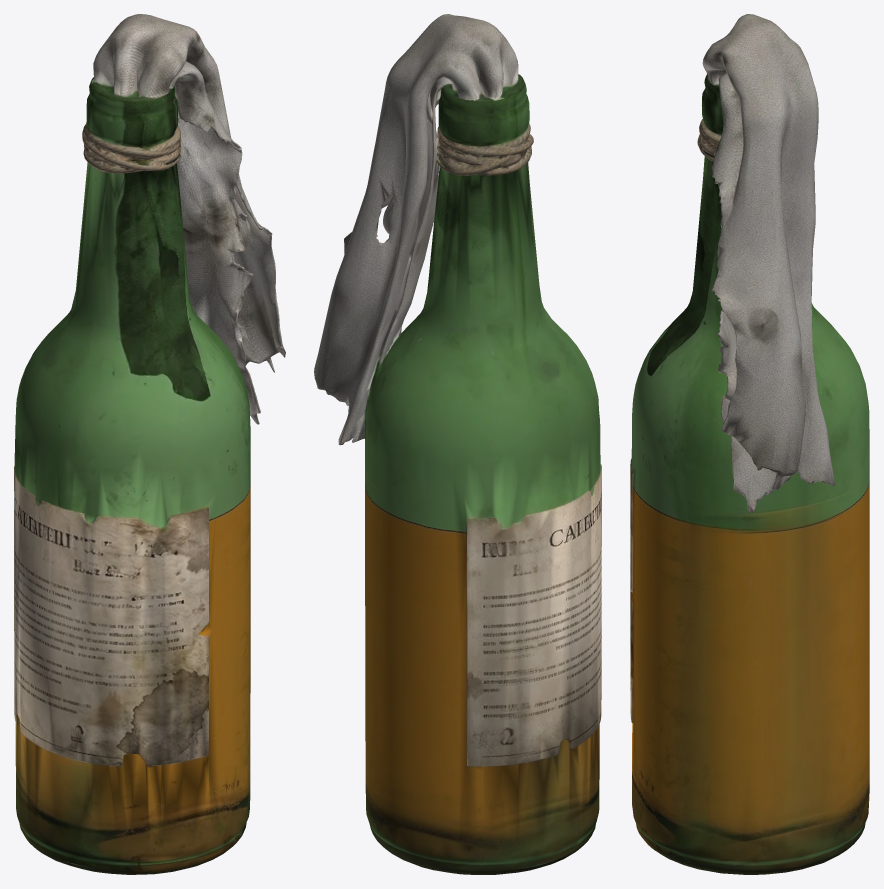
The model's file is bomba_molo.glb.
3 renders of one model, left to right at view 1: azimuth 30°, elevation 25°; view 2: azimuth 150°, elevation 25°; view 3: azimuth 270°, elevation 25°, orthographic.
Visible parts, largest first — view 1: govde; view 2: govde; view 3: govde.
Boxes of the visible parts, x1=… form: govde: x1=14, y1=14, x2=285, y2=874; govde: x1=314, y1=14, x2=601, y2=874; govde: x1=630, y1=14, x2=869, y2=874.
Bounding box in the file's own units: 0.0806 × 0.24 × 0.0638.
Materials: 1 (1 with a texture image).
